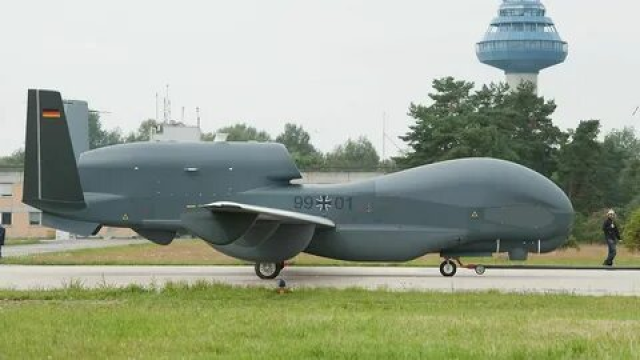military drone: (20, 88, 574, 279)
